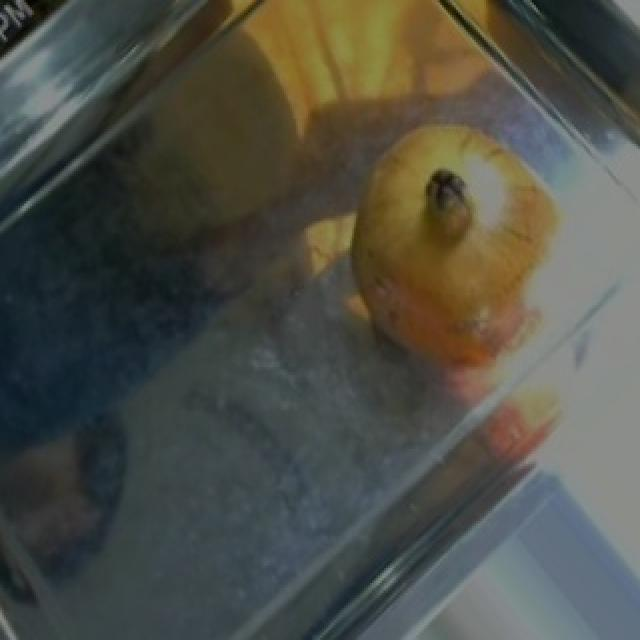fruit: (320, 94, 592, 318)
